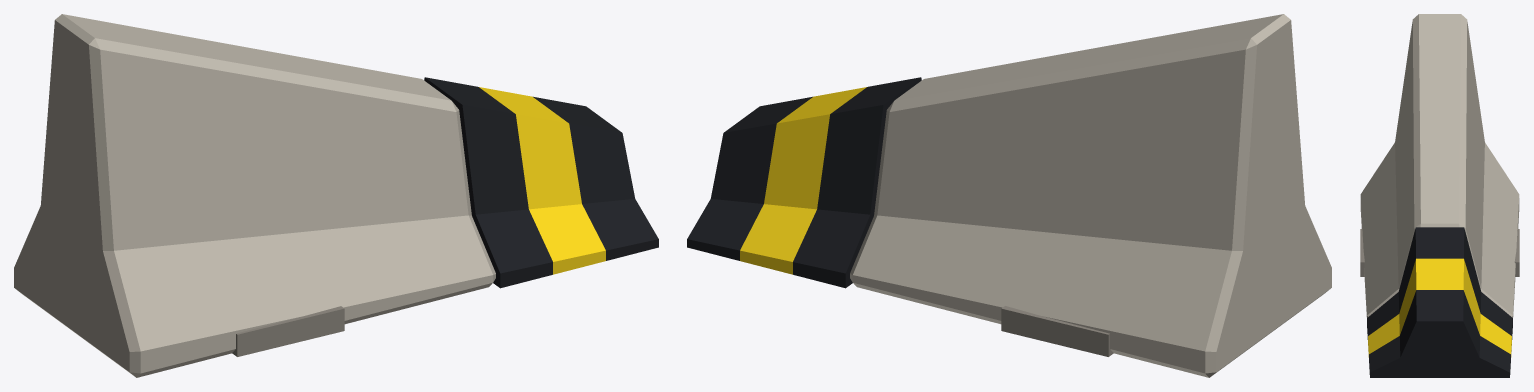
Rendered from jersey_end.glb.
3 views of the same model, side by side, from view 1: azimuth 30°, elevation 25°; view 2: azimuth 150°, elevation 25°; view 3: azimuth 270°, elevation 25° (orthographic). The views are drawn at different scales.
Parts seen in each view (by area): view 1: jersey_end; view 2: jersey_end; view 3: jersey_end.
Part boxes in pixels (x1,y1,x2,y2): jersey_end: (14, 14, 658, 377); jersey_end: (687, 14, 1331, 377); jersey_end: (1360, 14, 1519, 377).
Size of the model in its own units: 1.49 by 0.8285 by 0.6.
